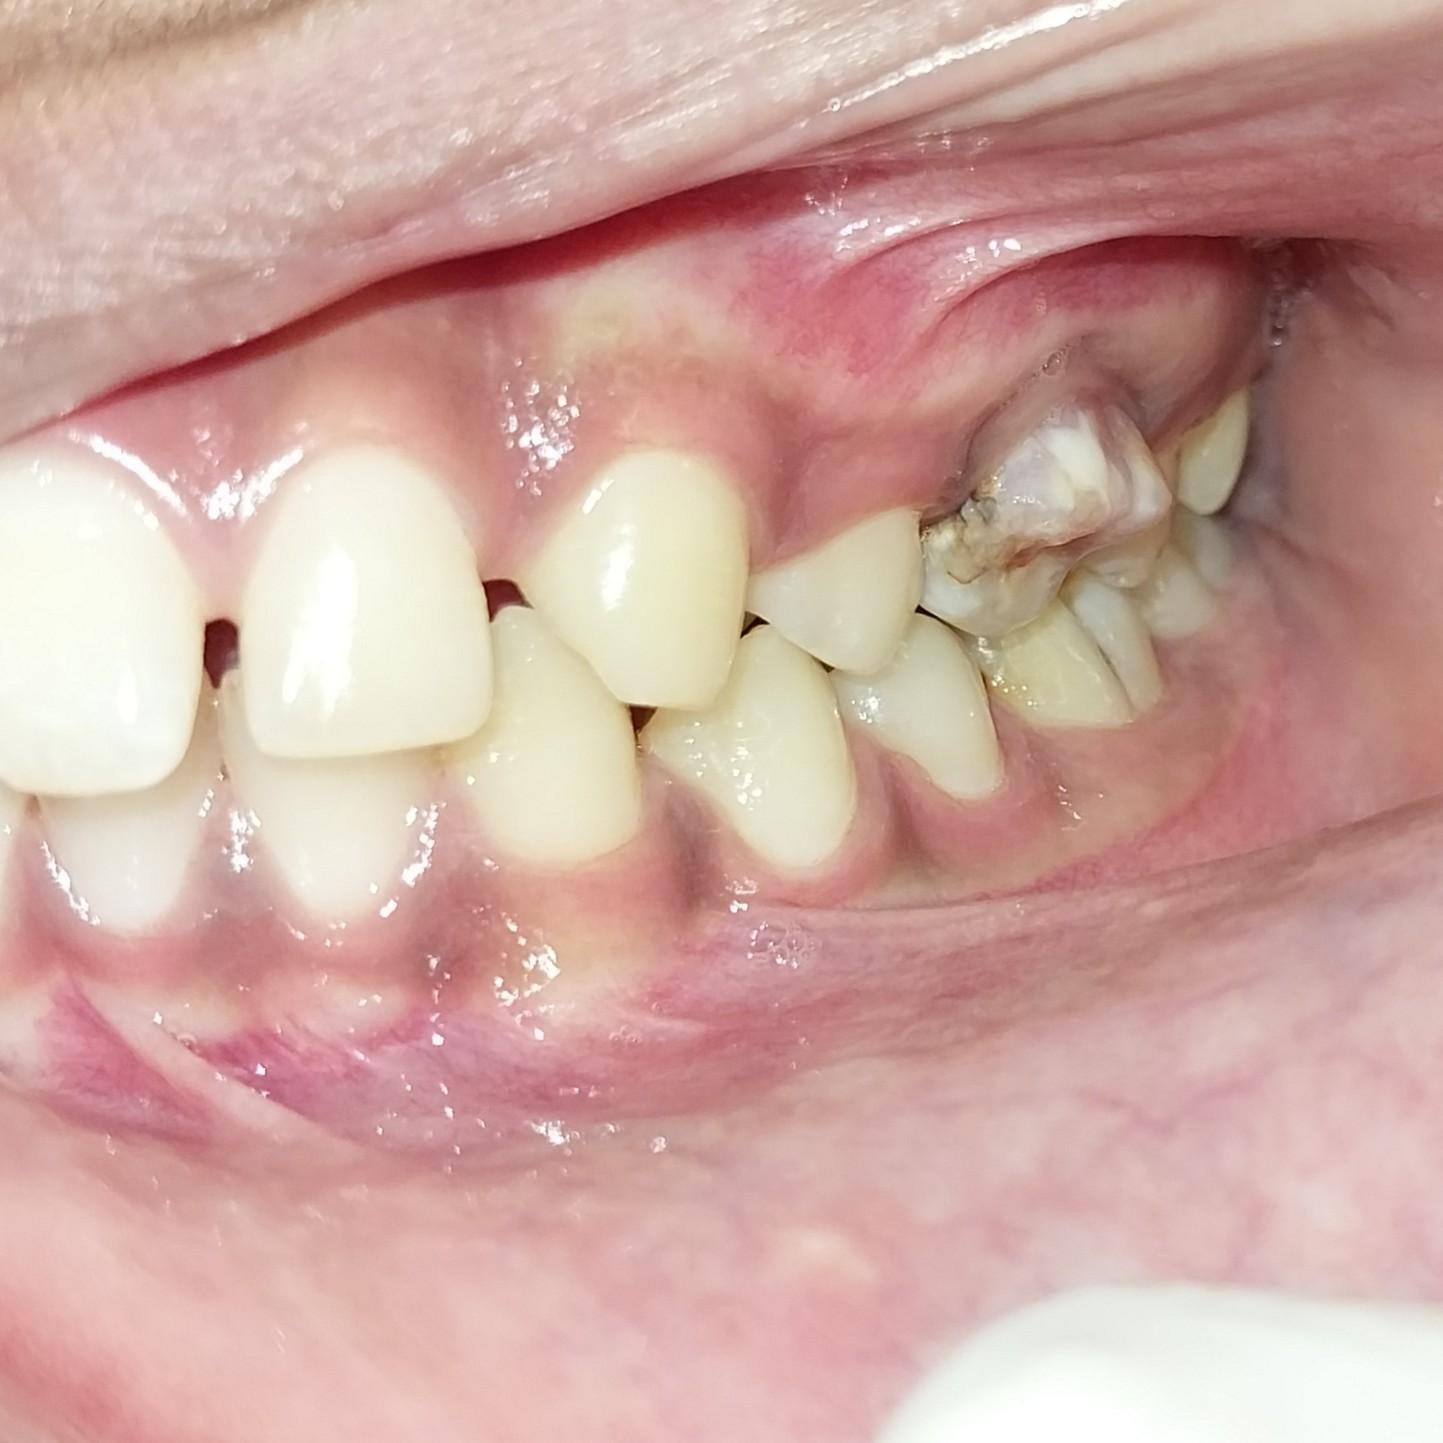d: (941, 362, 1187, 645)
